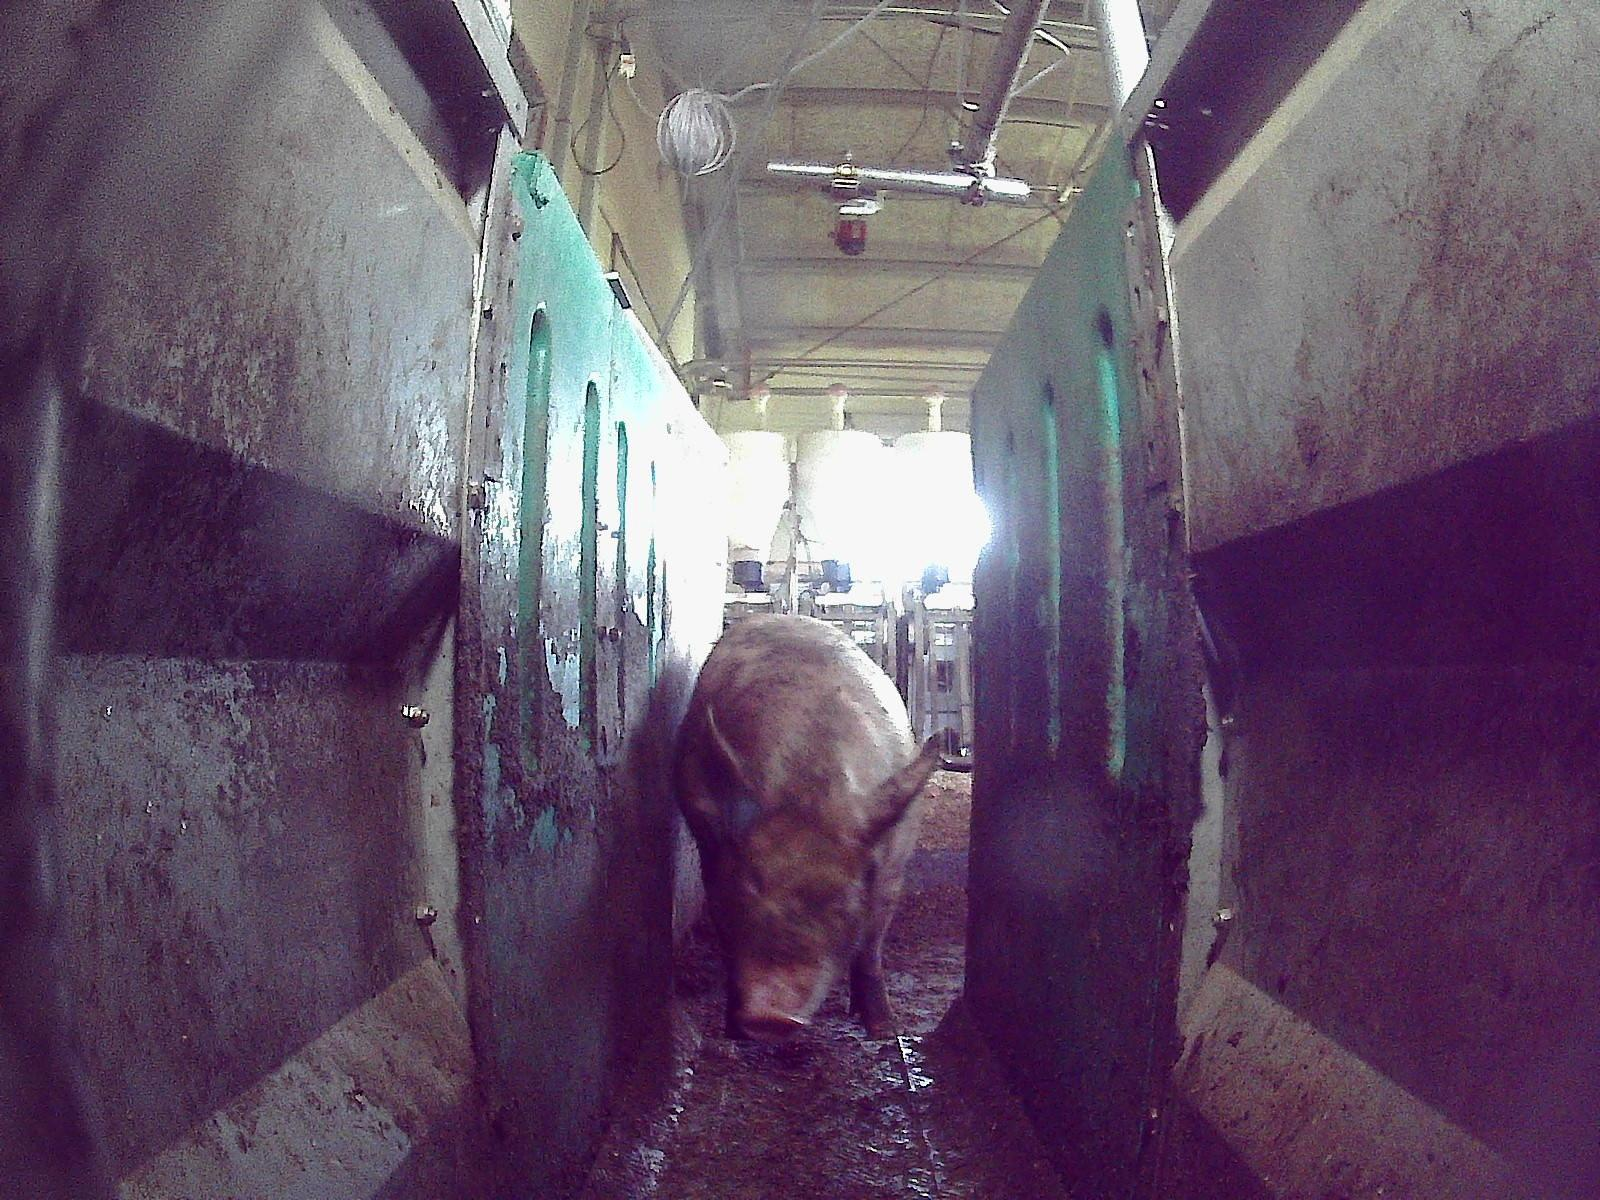Face: (718, 792, 869, 1033)
